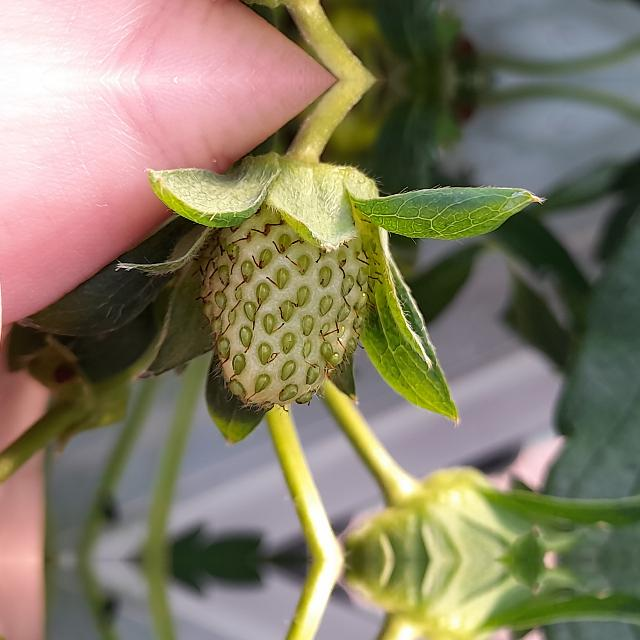Health_25: (190, 188, 382, 418)
